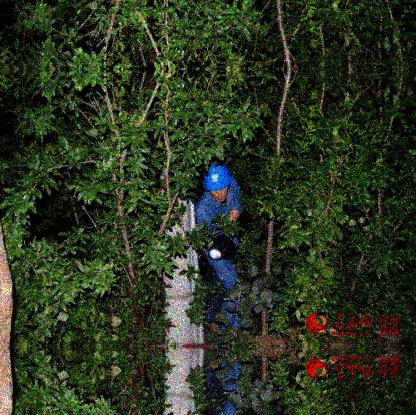helmet: (201, 160, 233, 205)
